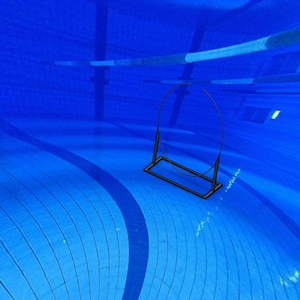circle: (142, 81, 226, 202)
